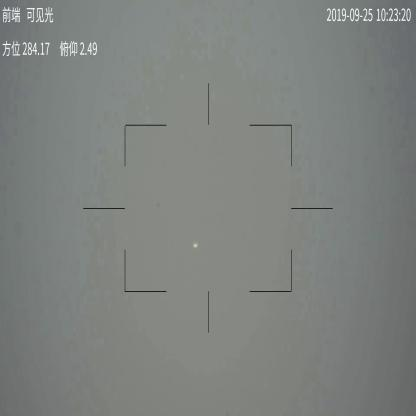uav: (192, 241, 199, 249)
